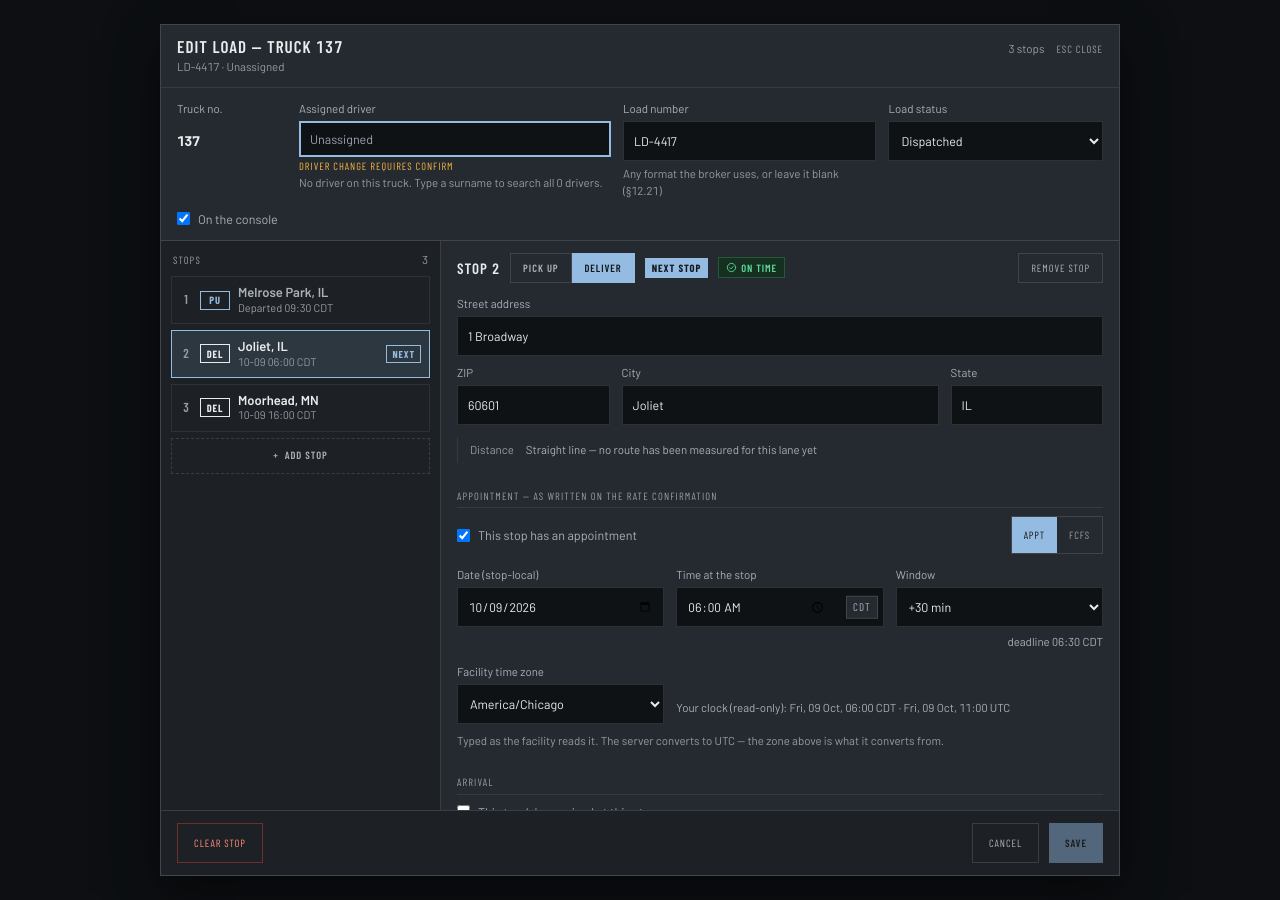
Test: Remove stop (§12.119) › is off for a stop the truck reached, with the arrival in the stop’s own clock
Click the tab "1 PU Melrose Park, IL Departed 09:30 CDT" at (300,300), box x1=171 y1=276 x2=430 y2=324
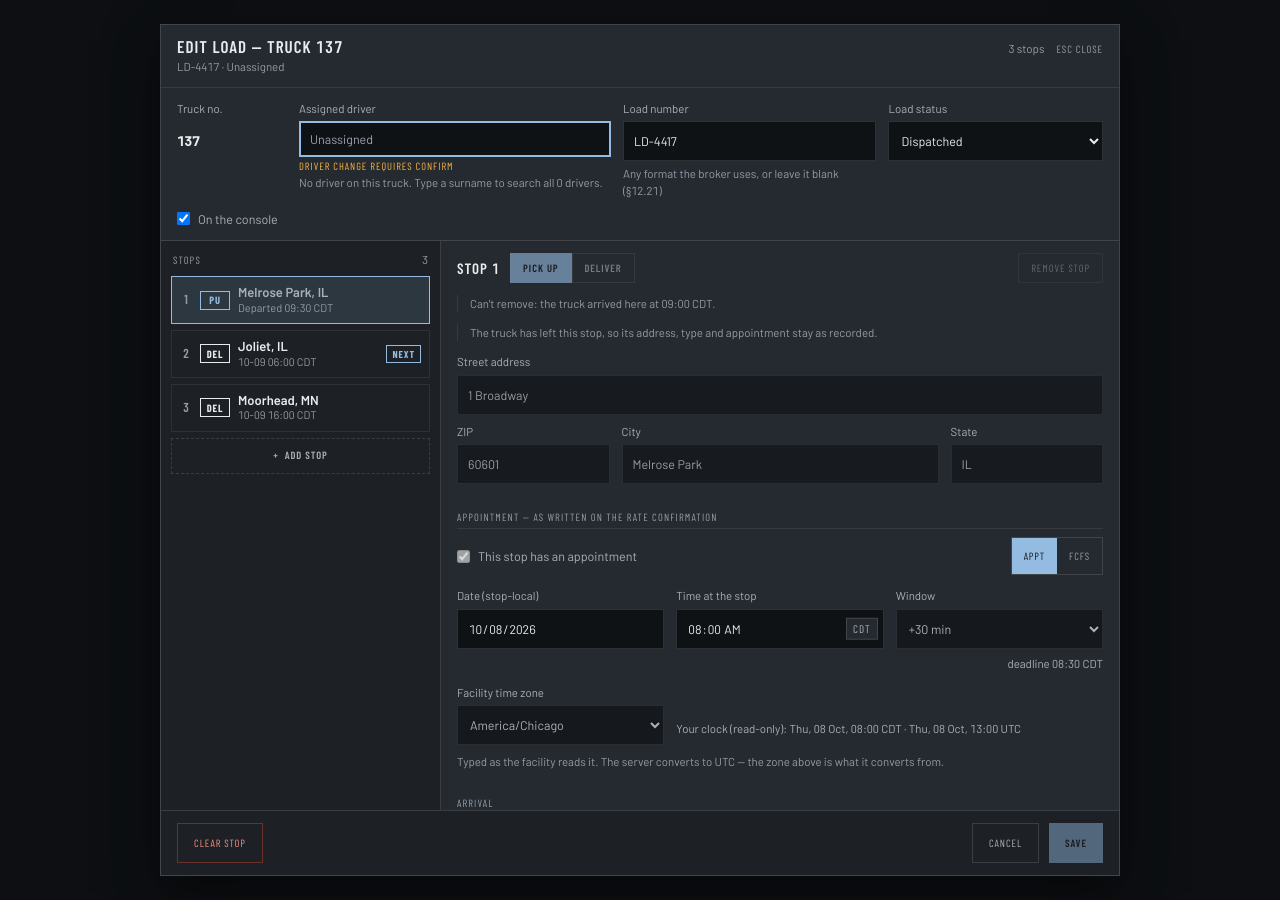
Result: the button "Remove stop" is disabled at x1=1018 y1=253 x2=1103 y2=283
Click the tab "3 DEL Moorhead, MN 10-09 16:00 CDT" at (300,408), box x1=171 y1=384 x2=430 y2=432
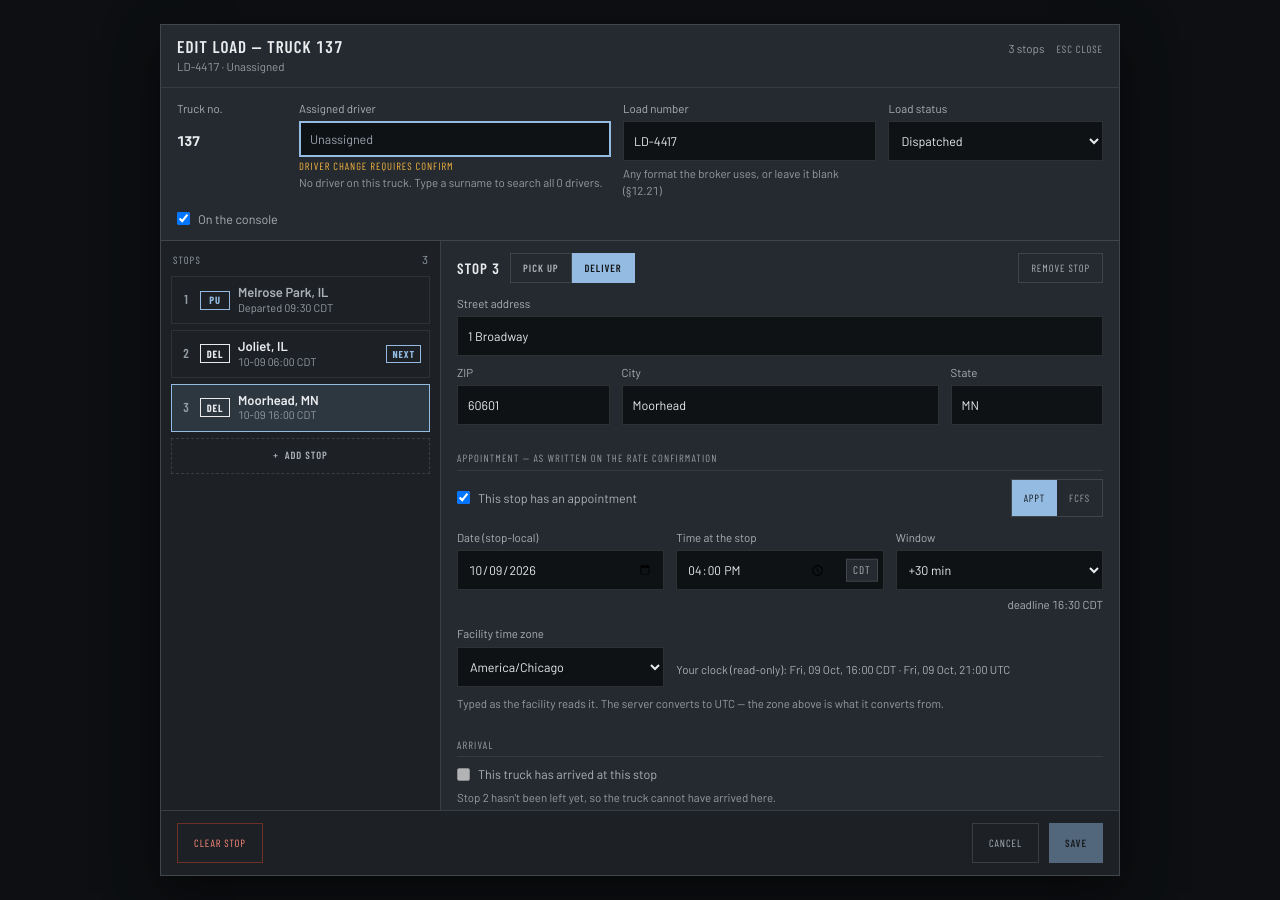
Result: the button "Remove stop" is enabled at x1=1018 y1=253 x2=1103 y2=283
